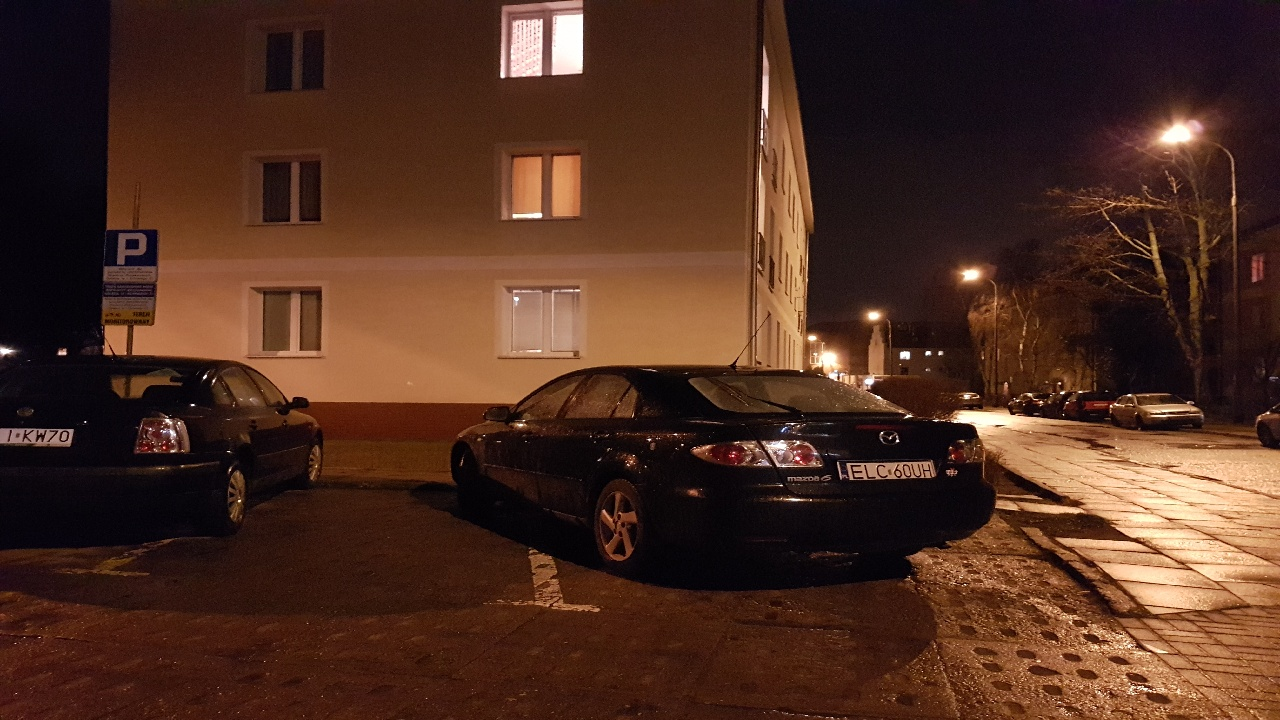D18: (106, 229, 158, 266)
